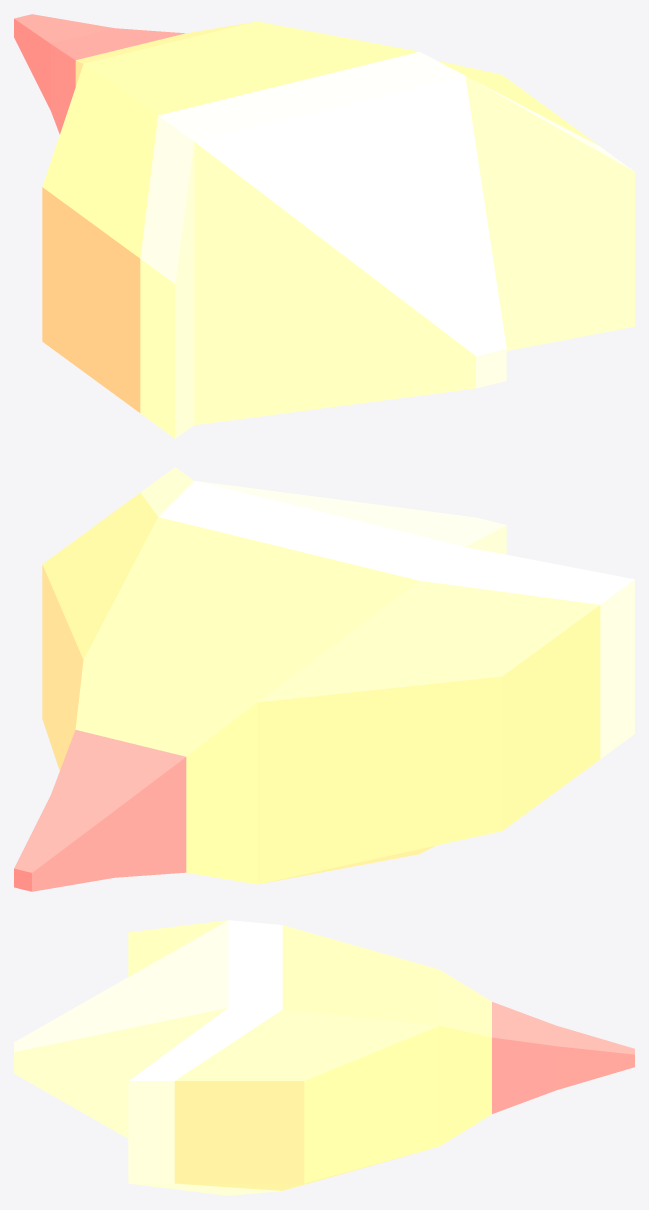
File: flame.fbx
3 renders of one model, top to bottom at view 1: azimuth 30°, elevation 25°; view 2: azimuth 150°, elevation 25°; view 3: azimuth 270°, elevation 25°, orthographic. The views are drawn at different scales.
Visible parts, largest first — view 1: Cube; view 2: Cube; view 3: Cube.
Boxes of the visible parts, x1,y1,x2,y2 form: Cube: [14, 14, 634, 438]; Cube: [14, 467, 634, 891]; Cube: [14, 920, 634, 1195].
Bounding box in the file's own units: 339 × 200 × 599.
